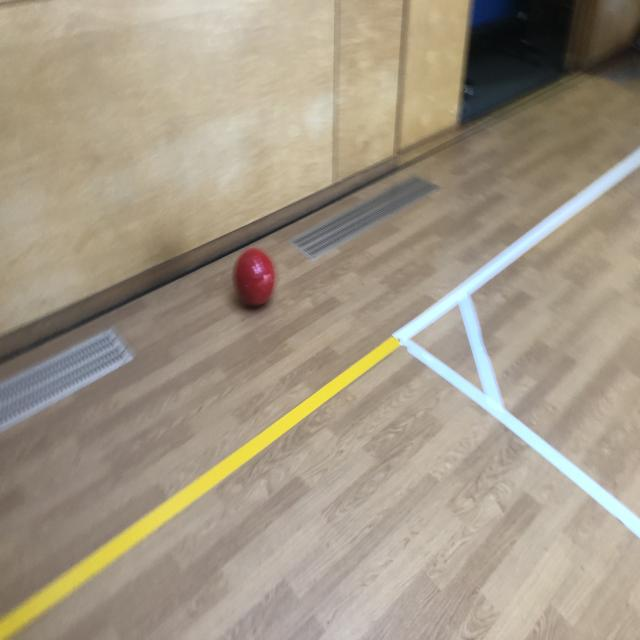red_ball: (233, 248, 274, 305)
